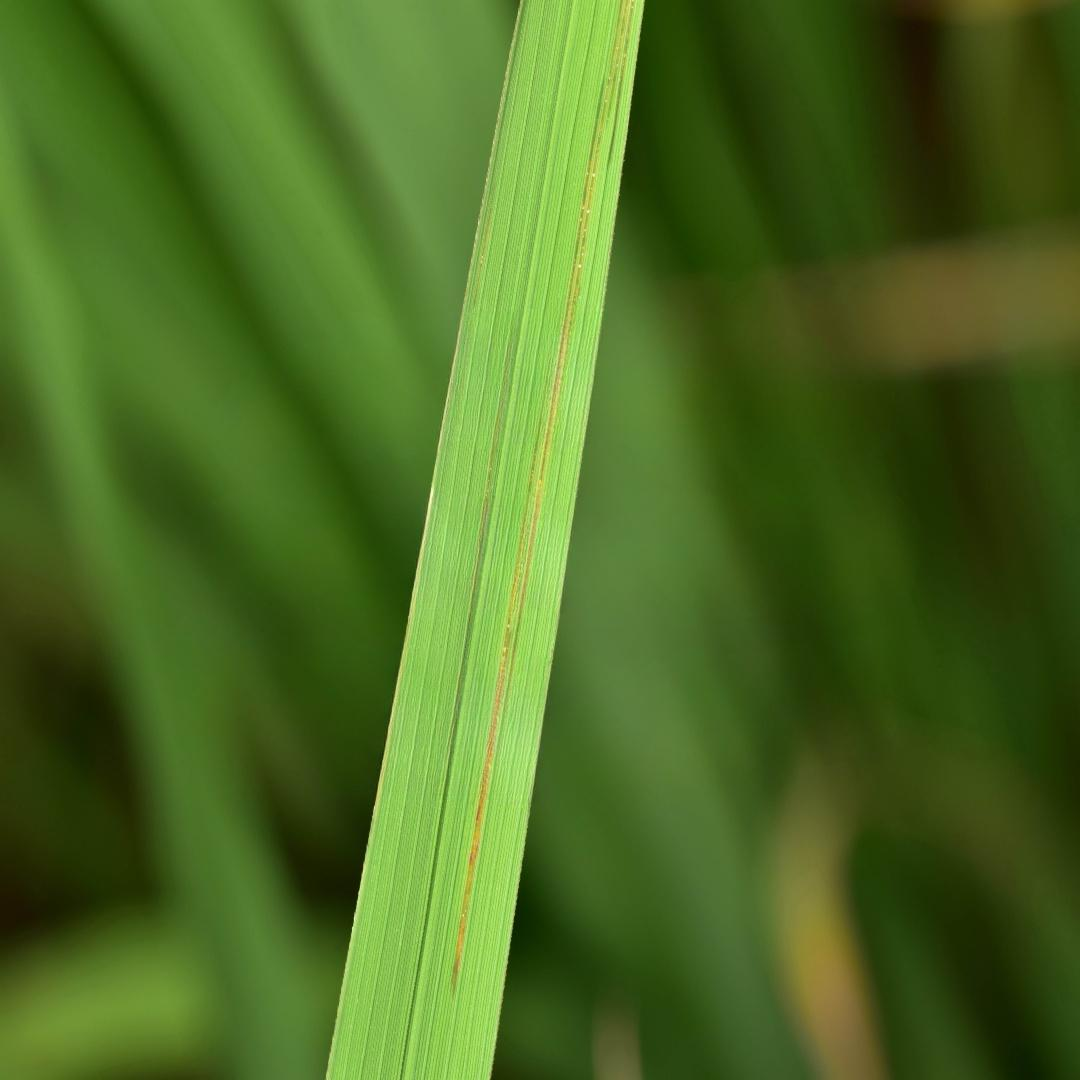BLS: (509, 0, 620, 680), (451, 494, 528, 997), (605, 0, 629, 128), (615, 0, 635, 116)
LEAF: (328, 0, 641, 1079)
